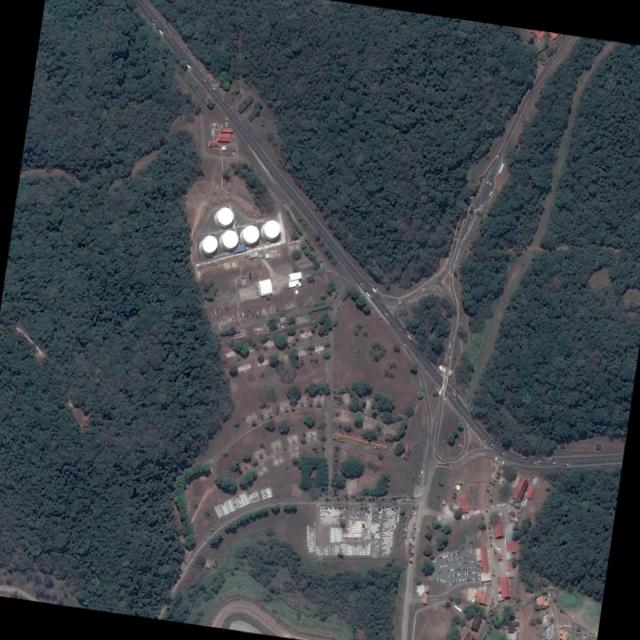large-vehicle: (405, 333, 412, 340), (364, 289, 370, 297), (371, 286, 376, 293), (157, 28, 162, 34), (185, 63, 190, 68), (488, 190, 492, 196), (560, 462, 568, 464)
small-vehicle: (452, 392, 455, 396), (379, 300, 383, 303), (422, 286, 425, 289), (410, 555, 412, 559), (459, 578, 461, 581), (460, 567, 462, 570), (406, 524, 409, 526), (433, 558, 436, 560), (451, 567, 453, 570), (440, 577, 442, 580), (501, 451, 504, 453), (537, 459, 540, 461), (532, 461, 535, 463), (522, 455, 525, 457), (383, 312, 386, 314), (359, 281, 361, 284), (441, 570, 443, 572), (490, 443, 492, 445), (398, 301, 400, 303), (449, 553, 450, 556), (449, 582, 450, 585), (450, 581, 451, 584), (458, 578, 459, 581), (464, 577, 465, 580), (466, 571, 467, 574), (464, 571, 465, 574), (457, 561, 458, 564), (441, 564, 442, 567), (472, 570, 473, 573), (452, 573, 453, 576), (444, 554, 445, 557), (473, 570, 474, 573), (463, 567, 464, 570), (470, 560, 471, 563), (469, 577, 470, 580), (467, 577, 468, 580), (438, 570, 439, 573), (440, 570, 441, 573), (451, 557, 452, 560), (469, 560, 470, 563), (472, 559, 473, 562), (444, 579, 445, 582), (442, 579, 443, 582), (449, 567, 450, 570), (470, 549, 471, 552), (436, 578, 437, 581), (443, 564, 444, 566), (455, 552, 456, 554), (462, 578, 463, 580), (458, 573, 459, 575), (457, 573, 458, 575), (444, 564, 445, 566), (445, 564, 446, 566), (432, 560, 434, 561), (442, 555, 443, 557), (443, 555, 444, 557), (446, 554, 447, 556), (463, 549, 464, 551), (469, 571, 470, 573), (456, 573, 457, 575), (454, 573, 455, 575), (453, 574, 454, 576), (439, 556, 440, 558), (437, 557, 438, 559), (455, 562, 456, 564), (458, 557, 459, 559), (466, 567, 467, 569), (465, 567, 466, 569), (468, 549, 469, 551), (440, 564, 440, 567), (472, 577, 472, 580)
storage-tank: (237, 222, 261, 246), (196, 232, 219, 257), (217, 226, 239, 251), (212, 204, 235, 227), (259, 216, 281, 240)
